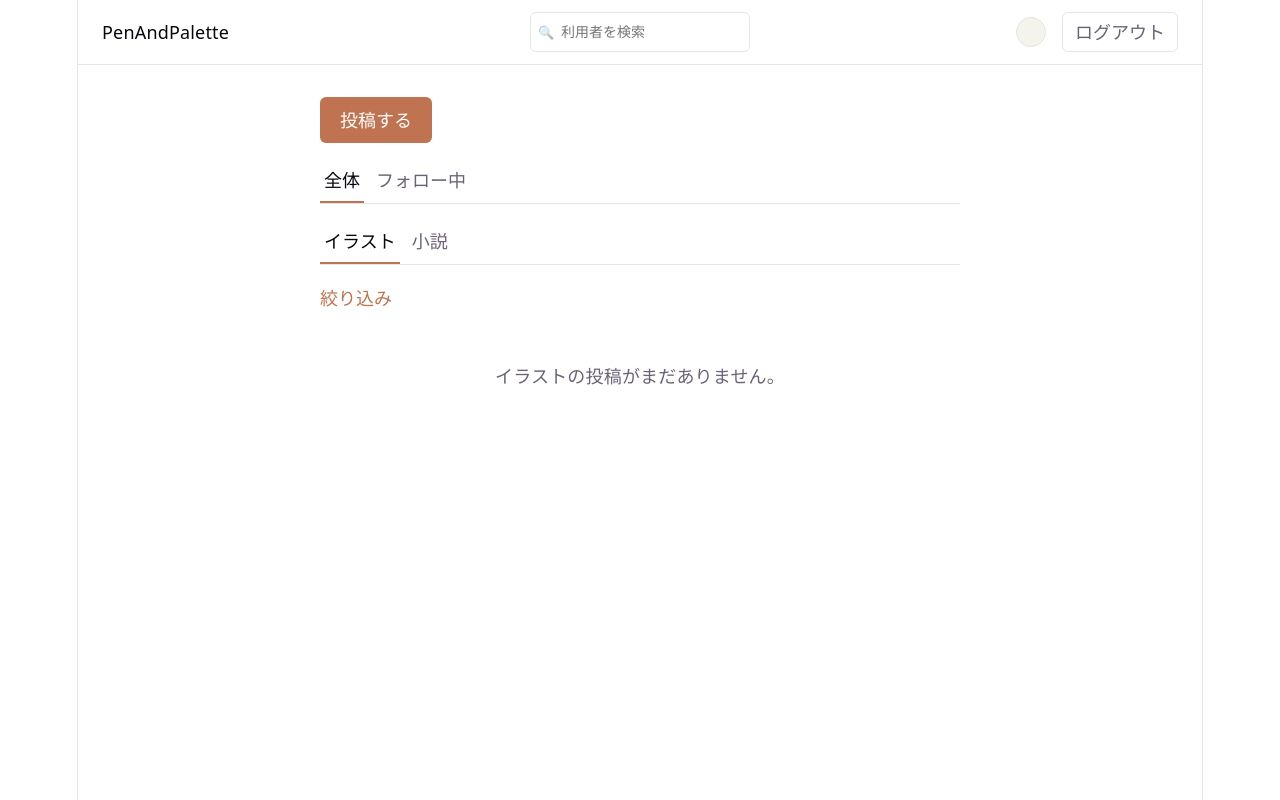
Test case: TimelineView › 投稿が無い場合は種別に応じた空状態メッセージを表示する
This screenshot has width=1280, height=800.
expect the text with test id "timeline-empty" reads "イラストの投稿がまだありません。": met, box x1=495 y1=364 x2=785 y2=388
Click the button with test id "tab-novel".
click(430, 242)  # box x1=408 y1=220 x2=452 y2=264
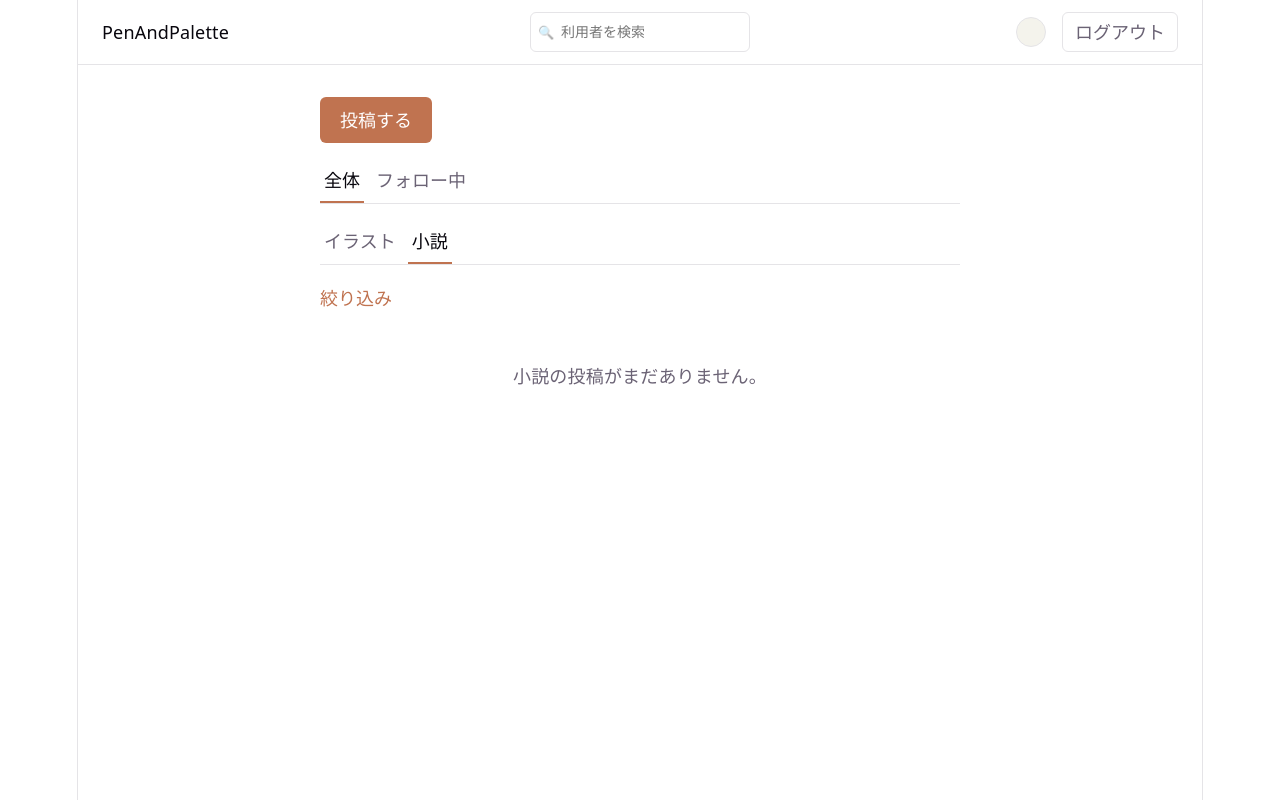
expect the text with test id "timeline-empty" reads "小説の投稿がまだありません。": met, box x1=513 y1=364 x2=767 y2=388
